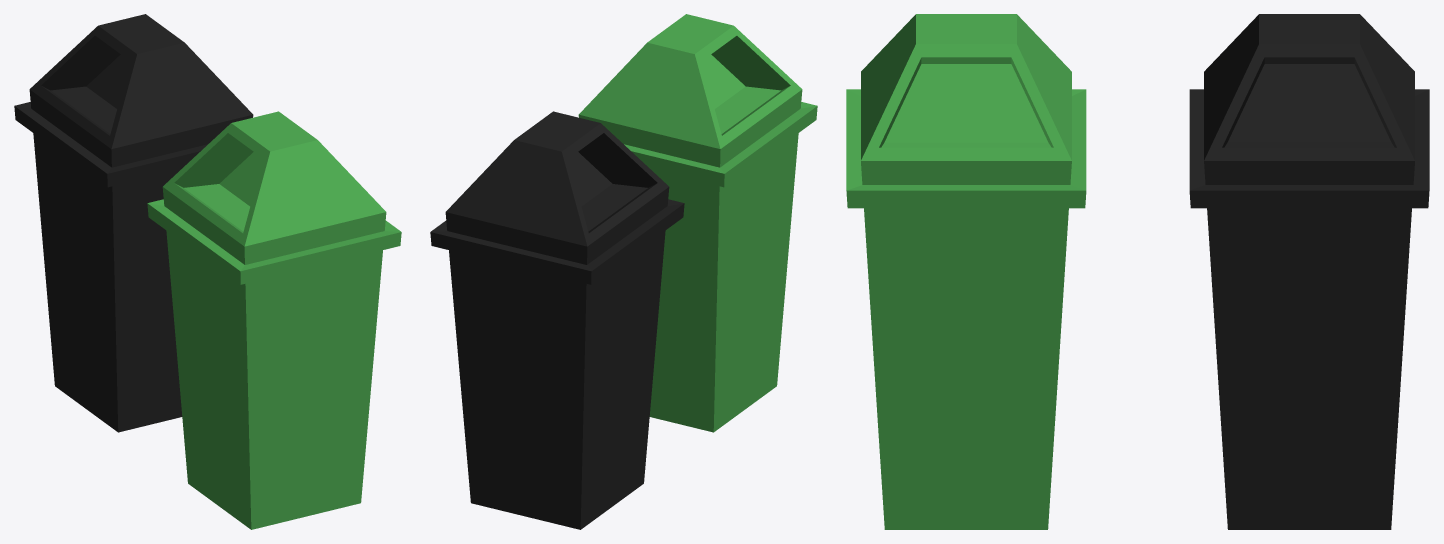
3 renders of one model, left to right at view 1: azimuth 30°, elevation 25°; view 2: azimuth 150°, elevation 25°; view 3: azimuth 270°, elevation 25°, orthographic. The views are drawn at different scales.
Visible parts, largest first — view 1: Cube, Cube.003, Cube.001, Cube.002; view 2: Cube.003, Cube, Cube.002, Cube.001; view 3: Cube, Cube.003, Cube.001, Cube.002.
Part boxes in pixels (x1,y1,x2,y2): Cube: [147, 187, 401, 529]; Cube.003: [14, 89, 253, 432]; Cube.001: [163, 111, 385, 246]; Cube.002: [30, 14, 252, 148]; Cube.003: [430, 187, 684, 529]; Cube: [578, 89, 817, 432]; Cube.002: [446, 111, 668, 246]; Cube.001: [579, 14, 801, 148]; Cube: [846, 89, 1086, 529]; Cube.003: [1189, 89, 1429, 529]; Cube.001: [861, 14, 1071, 160]; Cube.002: [1204, 14, 1414, 160].
Size of the model in its own units: 227 by 488 by 552.
